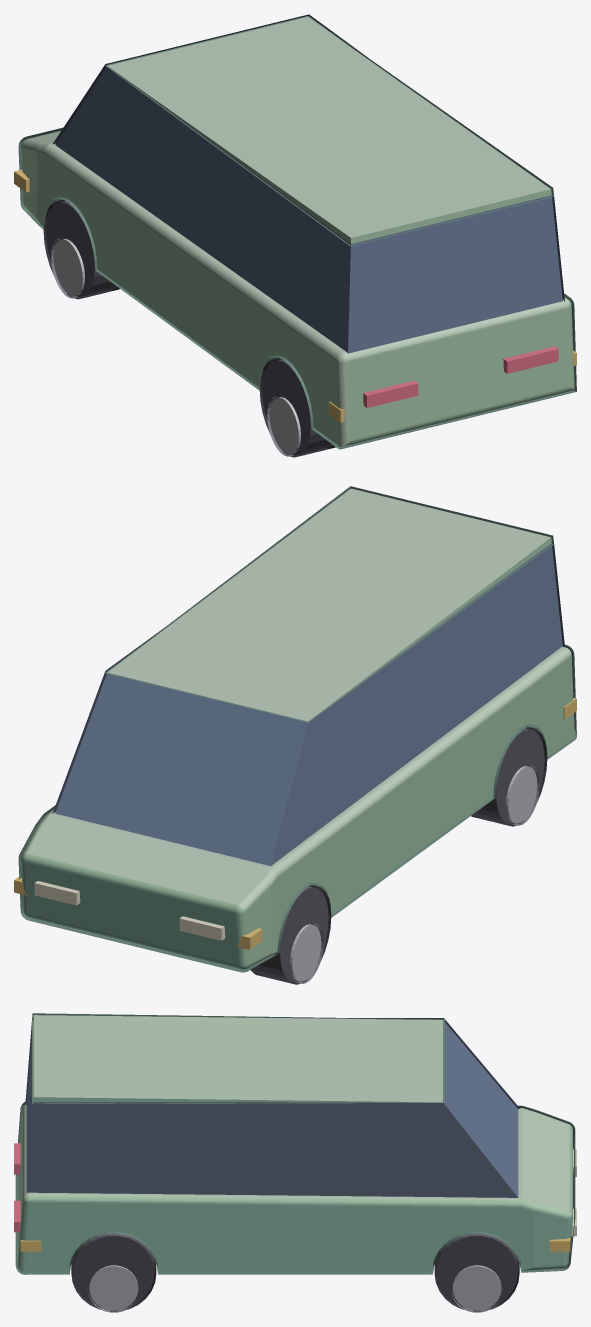
The model's file is traffic_van_3.glb.
3 renders of one model, top to bottom at view 1: azimuth 30°, elevation 25°; view 2: azimuth 150°, elevation 25°; view 3: azimuth 270°, elevation 25°, orthographic. The views are drawn at different scales.
Visible parts, largest first — view 1: car, blink; view 2: car, blink; view 3: car, blink.
Part boxes in pixels (x1,y1,x2,y2): car: (18,14,576,457); blink: (14,169,576,422); car: (18,486,576,984); blink: (14,698,576,949); car: (14,1013,576,1312); blink: (20,1238,570,1251).
Size of the model in its own units: 2.07 by 2.02 by 4.96.
